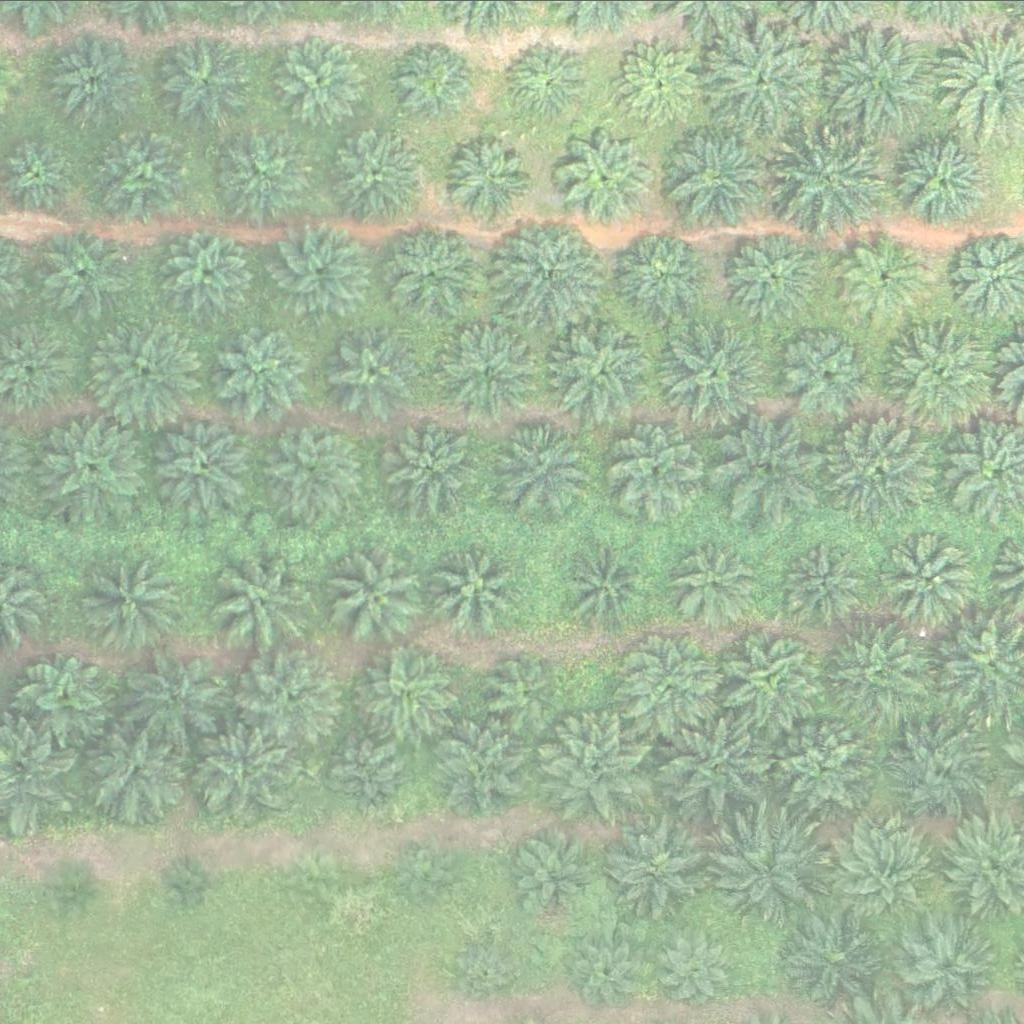Kelapa_Sawit: (782, 901, 896, 1014), (890, 905, 1004, 1018), (546, 314, 660, 427), (492, 214, 606, 327), (662, 117, 776, 230), (775, 125, 889, 238), (87, 311, 200, 424), (32, 405, 145, 518), (145, 406, 258, 519), (179, 709, 292, 822), (540, 708, 653, 821), (827, 408, 940, 521), (884, 119, 997, 232), (80, 709, 194, 821), (707, 20, 821, 132), (819, 23, 933, 135), (262, 213, 375, 325), (602, 815, 715, 927), (717, 814, 830, 926), (664, 709, 777, 821), (882, 712, 995, 824), (834, 608, 947, 720), (706, 409, 819, 521), (653, 316, 766, 428), (884, 319, 997, 431), (42, 29, 143, 129), (154, 29, 255, 129), (211, 124, 312, 224), (324, 123, 425, 223), (161, 223, 262, 323), (212, 320, 313, 420), (352, 643, 453, 743), (313, 713, 414, 813), (560, 918, 661, 1018), (436, 713, 537, 813), (777, 714, 878, 814), (622, 625, 723, 725), (719, 627, 820, 727), (561, 535, 662, 635), (879, 528, 980, 628), (602, 419, 703, 519), (773, 322, 874, 422), (259, 416, 359, 516), (381, 416, 481, 516), (79, 545, 179, 645), (214, 545, 314, 645), (328, 541, 428, 641), (242, 645, 342, 745), (838, 818, 938, 918), (489, 411, 589, 511), (437, 319, 537, 419), (611, 225, 711, 325), (725, 225, 825, 325), (557, 128, 657, 228), (37, 228, 126, 316), (132, 651, 220, 739), (508, 829, 596, 917), (448, 133, 536, 221), (502, 35, 590, 123), (616, 38, 704, 126), (274, 36, 363, 123), (782, 538, 871, 625), (96, 130, 184, 217), (332, 328, 420, 415), (387, 228, 475, 315), (17, 647, 105, 734), (669, 535, 757, 622), (841, 233, 929, 320), (390, 38, 478, 125), (442, 546, 518, 621), (487, 651, 562, 726), (664, 938, 727, 1001), (463, 935, 526, 997), (301, 853, 352, 903), (393, 844, 444, 894), (42, 860, 92, 910), (168, 856, 218, 906)
